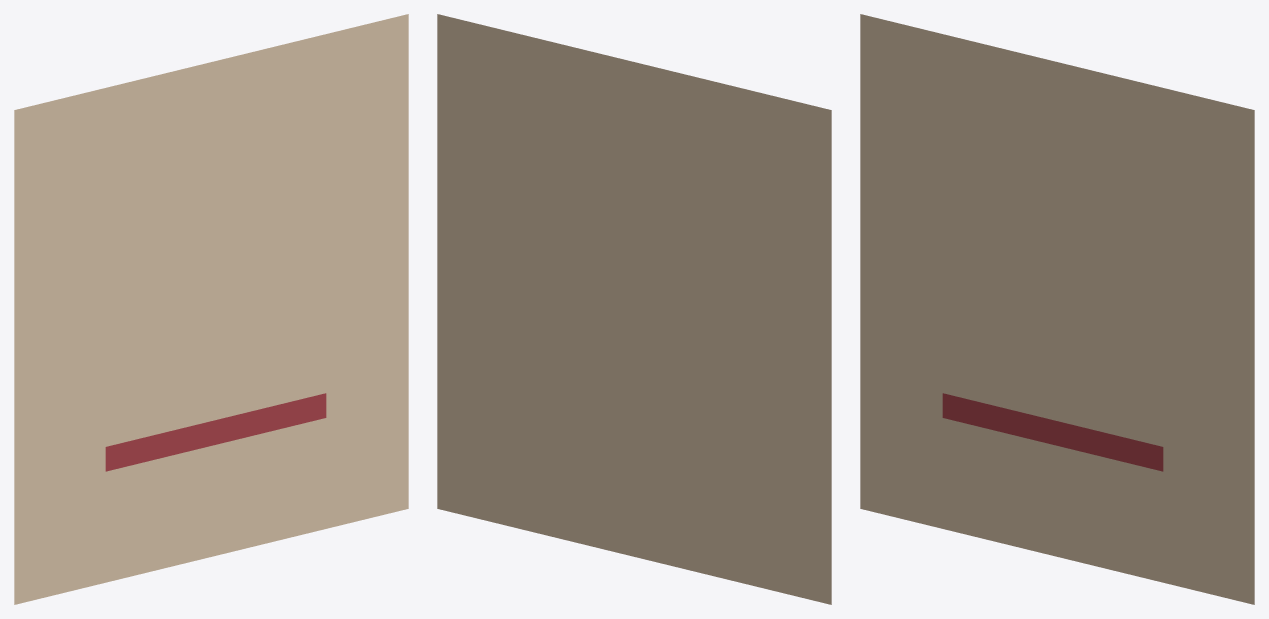
The picture shows the model from 3 angles, left to right: view 1: azimuth 30°, elevation 25°; view 2: azimuth 150°, elevation 25°; view 3: azimuth 330°, elevation 25°; orthographic projection.
Visible parts, largest first — view 1: Head, Mouth; view 2: Head; view 3: Head, Mouth.
Part boxes in pixels (x1,y1,x2,y2): Head: (14,14,408,604); Mouth: (105,393,326,471); Head: (437,14,831,604); Head: (860,14,1254,604); Mouth: (942,393,1163,471).
Bounding box in the file's own units: 1 × 1.2 × 0.02.
